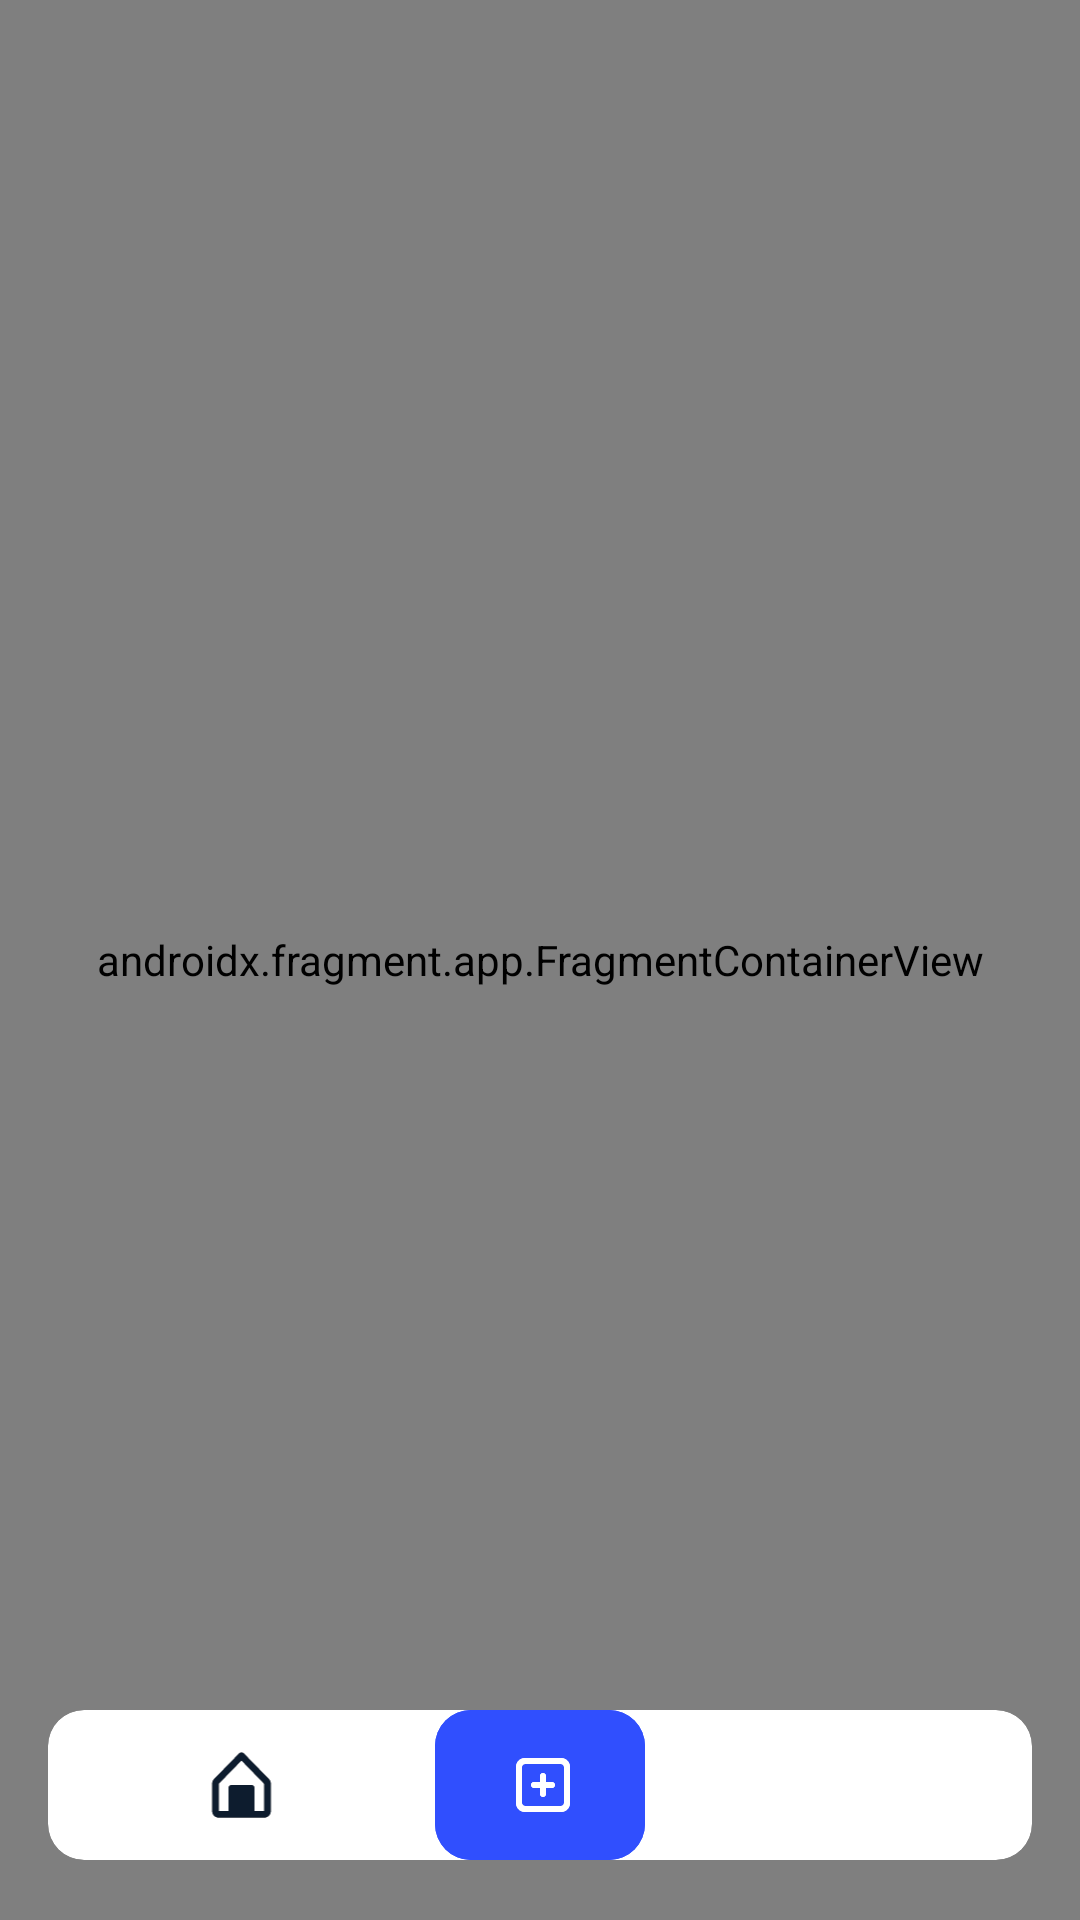

Screen size 1080×1920. Icon name, then its center in pixels as (x=x, y=y):
plus square: (x=540, y=1785)
